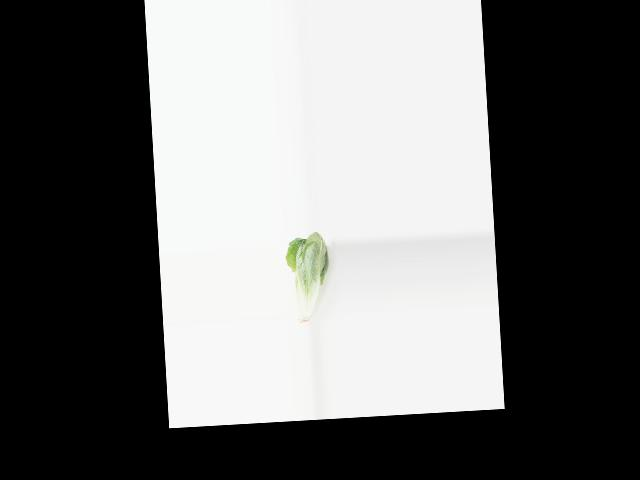lettuce: (283, 230, 334, 327)
